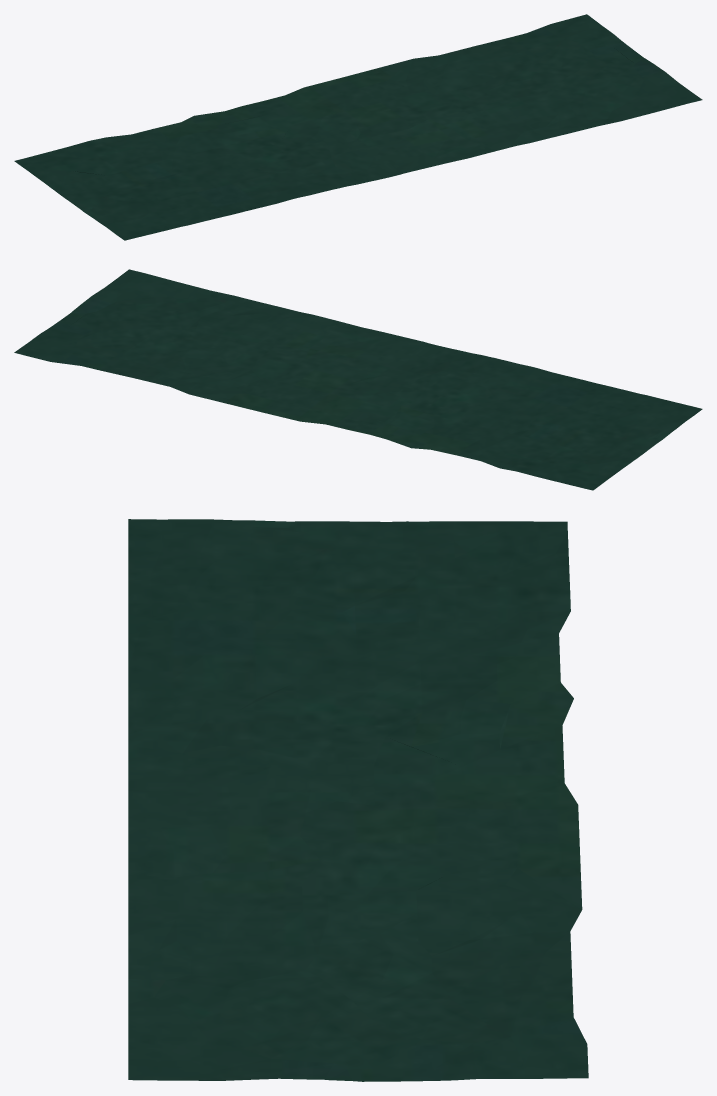
3 renders of one model, top to bottom at view 1: azimuth 30°, elevation 25°; view 2: azimuth 150°, elevation 25°; view 3: azimuth 270°, elevation 25°, orthographic. The views are drawn at different scales.
Size of the model in its own units: 104 by 0.5851 by 36.28.
Materials: 1 (1 with a texture image).
